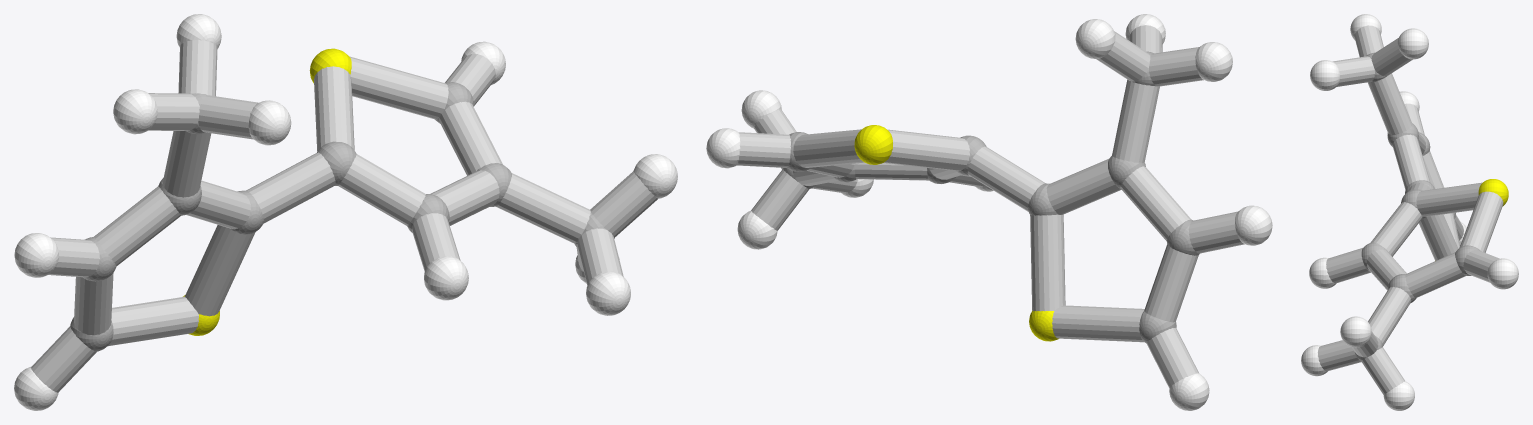
The model's file is Methylthiophene_Phi_30_Theta_280_Methylthiophene.glb.
3 renders of one model, left to right at view 1: azimuth 30°, elevation 25°; view 2: azimuth 150°, elevation 25°; view 3: azimuth 270°, elevation 25°, orthographic. The views are drawn at different scales.
Visible parts, largest first — view 1: grp7965, grp3621, grp1, grp7241; view 2: grp7965, grp3621, grp1, grp7241; view 3: grp7965, grp3621, grp1, grp7241.
Part boxes in pixels (x1,y1,x2,y2): grp7965: (31, 39, 657, 392); grp3621: (14, 14, 677, 410); grp1: (70, 82, 614, 351); grp7241: (183, 48, 351, 335); grp7965: (737, 25, 1244, 388); grp3621: (706, 14, 1272, 410); grp1: (783, 51, 1199, 343); grp7241: (854, 125, 1058, 341); grp7965: (1317, 25, 1503, 394); grp3621: (1301, 14, 1518, 410); grp1: (1355, 52, 1480, 360); grp7241: (1478, 179, 1508, 206).
Bounding box in the file's own units: 9.56 × 5.59 × 4.16.
